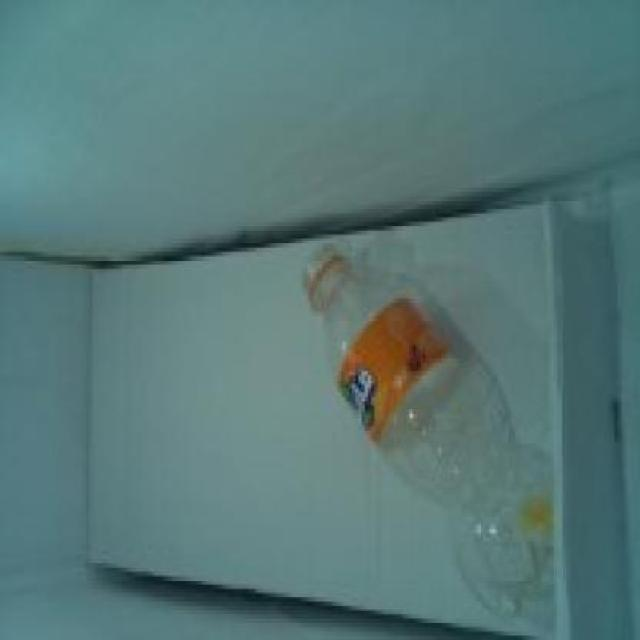Pet_Bottle: (296, 230, 561, 624)
